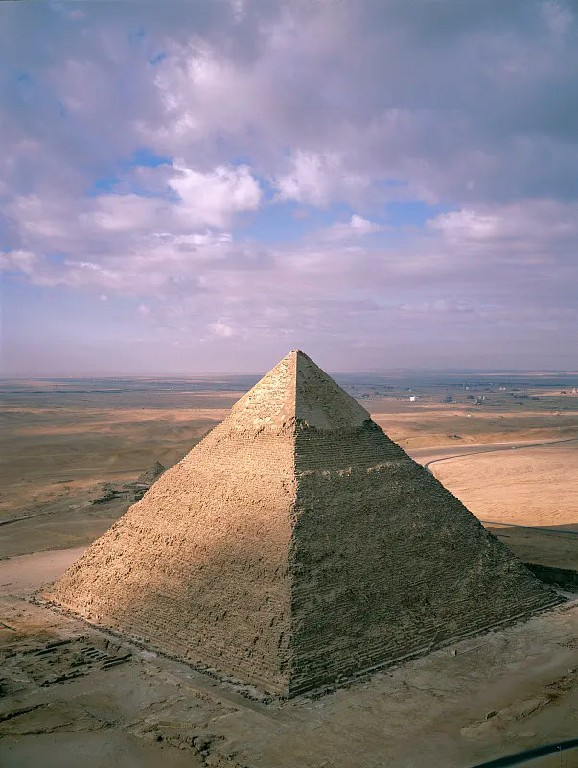Pyramid: (35, 350, 558, 699)
